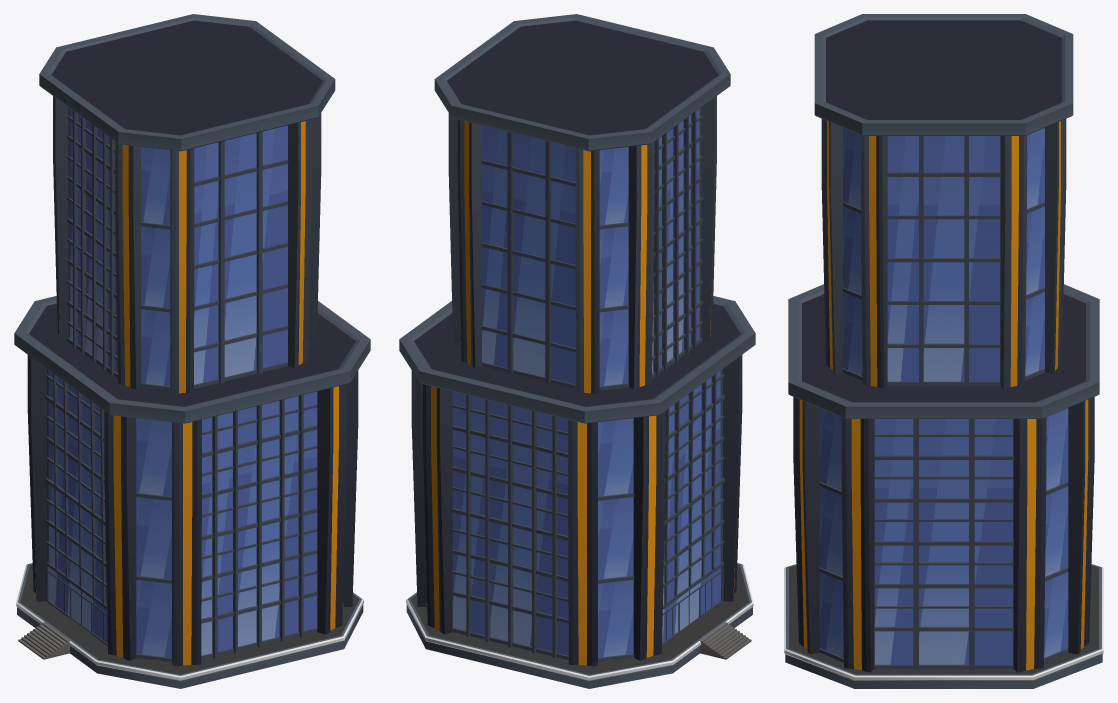
Rendered from Building_7_2_D.glb.
3 views of the same model, side by side, from view 1: azimuth 30°, elevation 25°; view 2: azimuth 150°, elevation 25°; view 3: azimuth 270°, elevation 25° (orthographic). The views are drawn at different scales.
Visible parts, largest first — view 1: Building_7_2_D; view 2: Building_7_2_D; view 3: Building_7_2_D.
Boxes of the visible parts, x1=… form: Building_7_2_D: x1=14, y1=14, x2=370, y2=688; Building_7_2_D: x1=399, y1=14, x2=755, y2=688; Building_7_2_D: x1=784, y1=14, x2=1103, y2=688.
Size of the model in its own units: 25.2 by 44.18 by 23.11.
4 materials, 4 textured.
